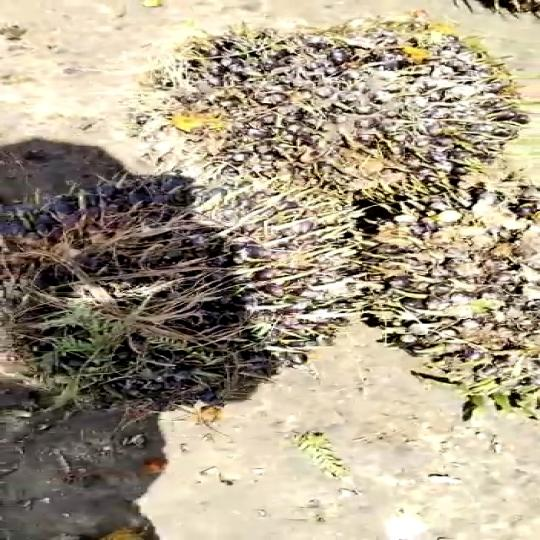mentah: (0, 163, 365, 406), (151, 26, 540, 217), (336, 189, 540, 421)
